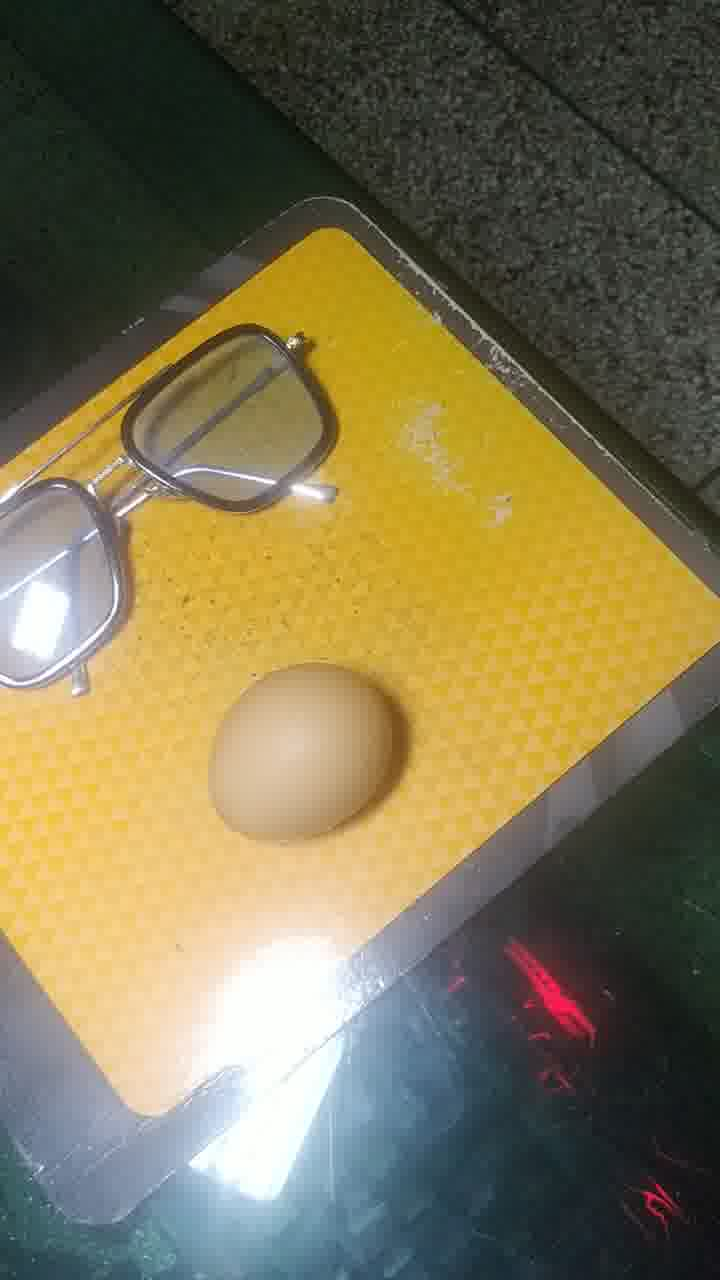egg: (194, 647, 400, 870)
sunglass: (1, 313, 454, 661)
